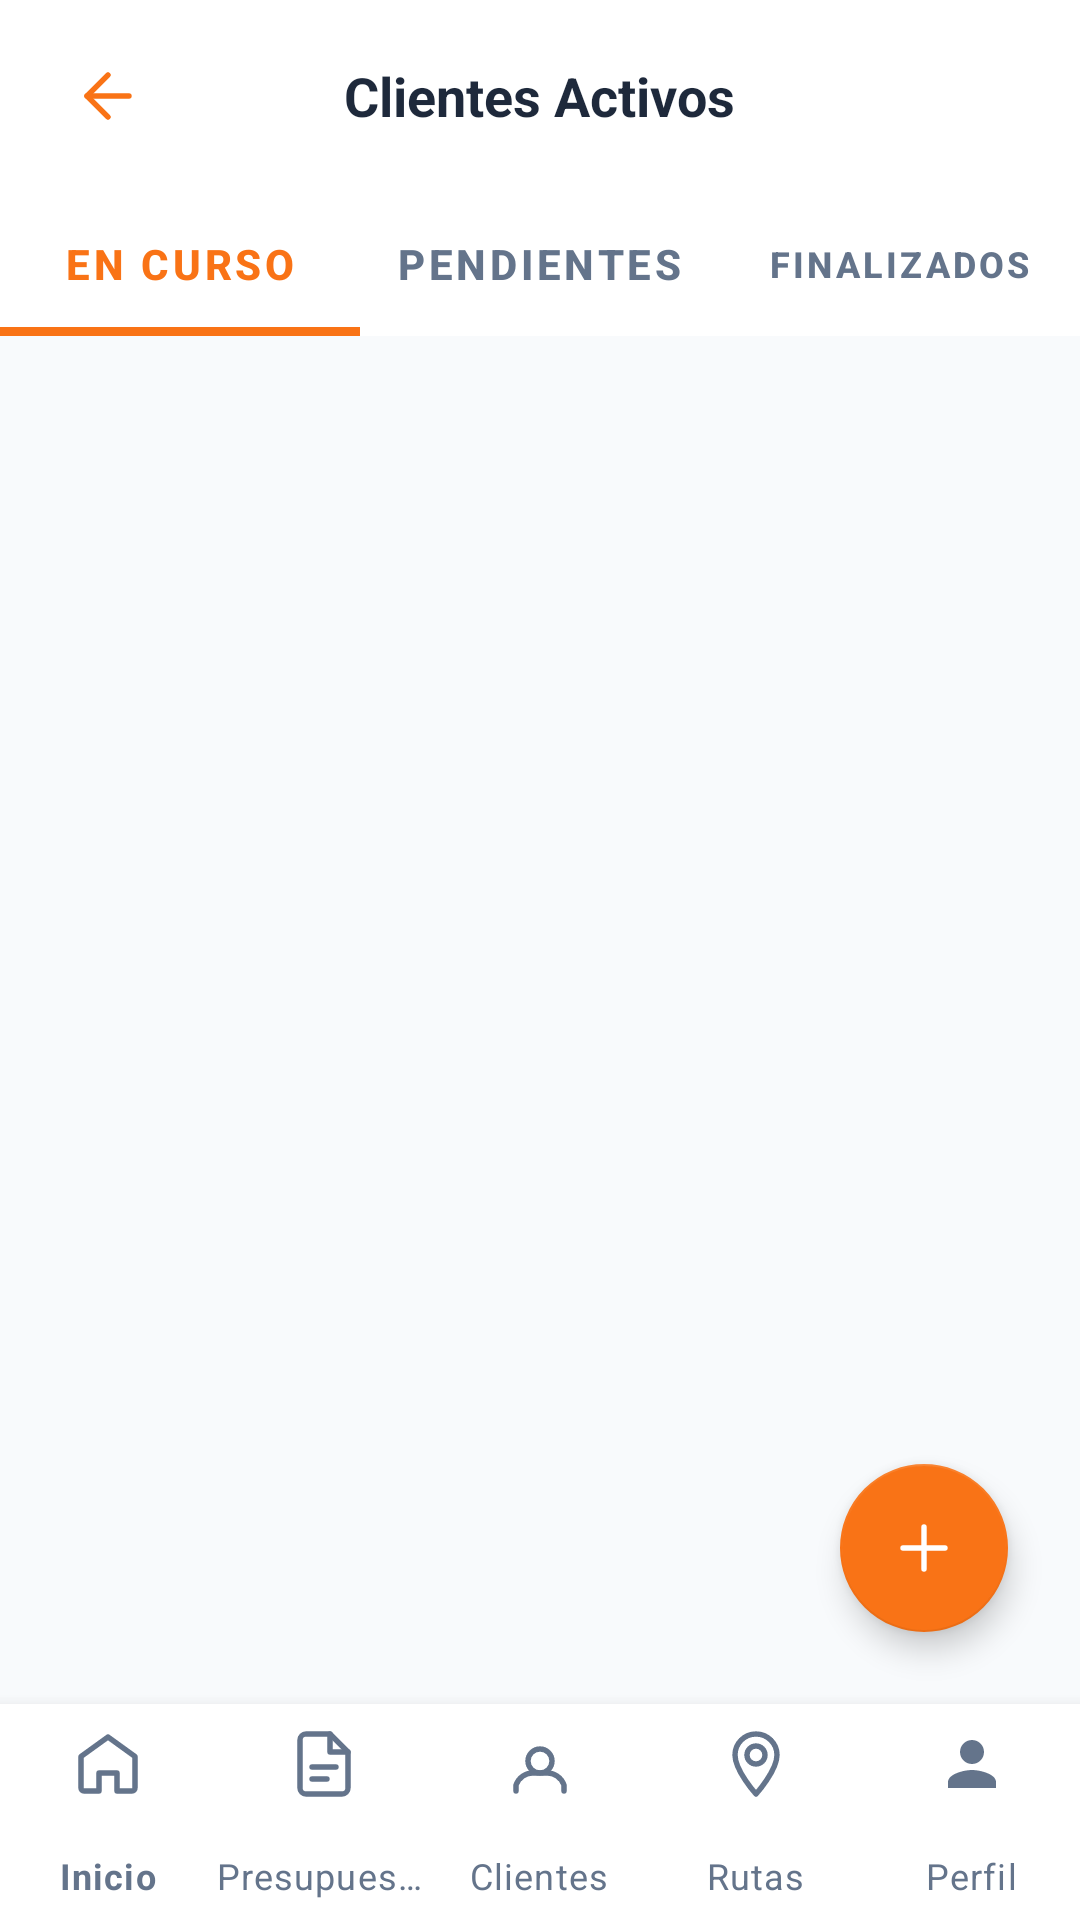

Point at icon controls on the screen. Image size 1080 x 1920, points as (x=x, y=y).
add quote: (x=924, y=1548)
arrow back: (x=108, y=96)
